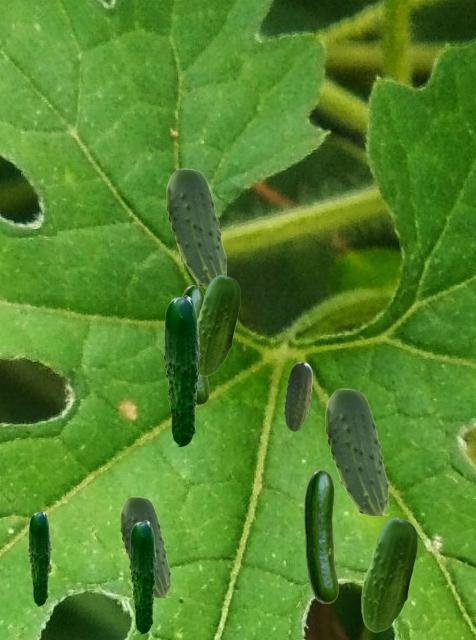cucumber: (325, 388, 387, 514), (166, 168, 225, 287), (361, 518, 416, 631), (163, 295, 200, 446), (120, 496, 169, 596), (304, 470, 337, 602), (198, 275, 239, 375), (181, 285, 208, 404), (129, 520, 156, 633), (28, 511, 50, 605), (284, 362, 311, 430)
